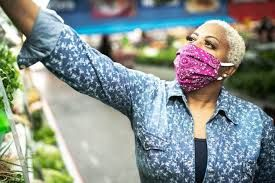with-mask: (167, 19, 247, 95)
